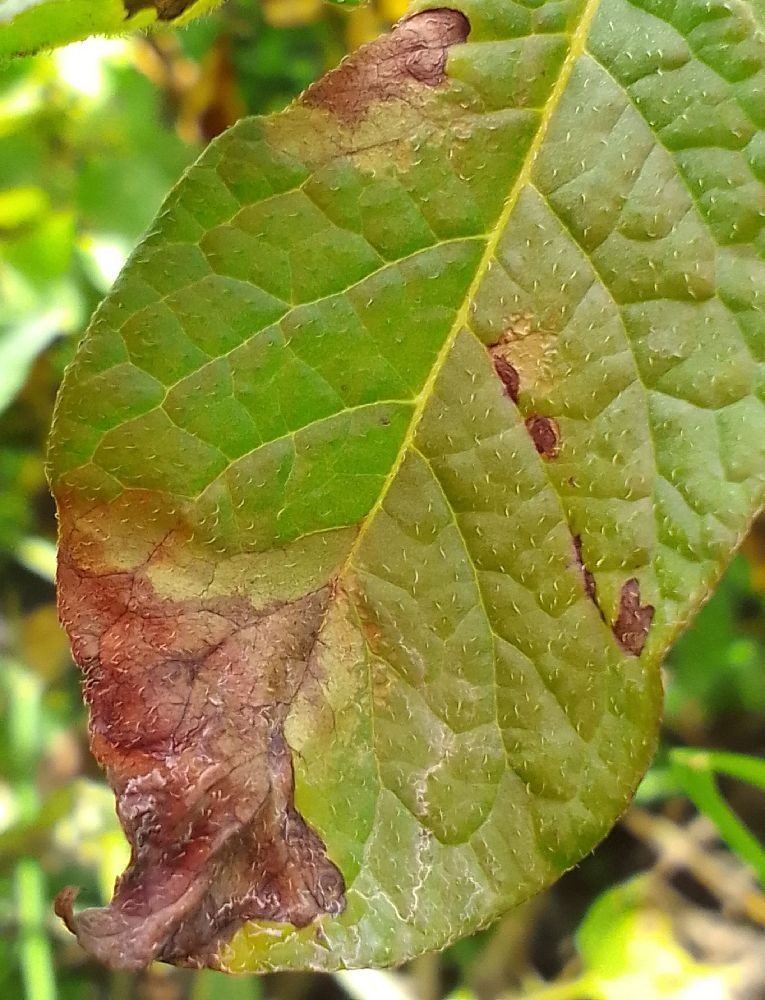late_blight: (168, 220, 596, 780), (92, 0, 549, 270), (704, 763, 765, 857)
